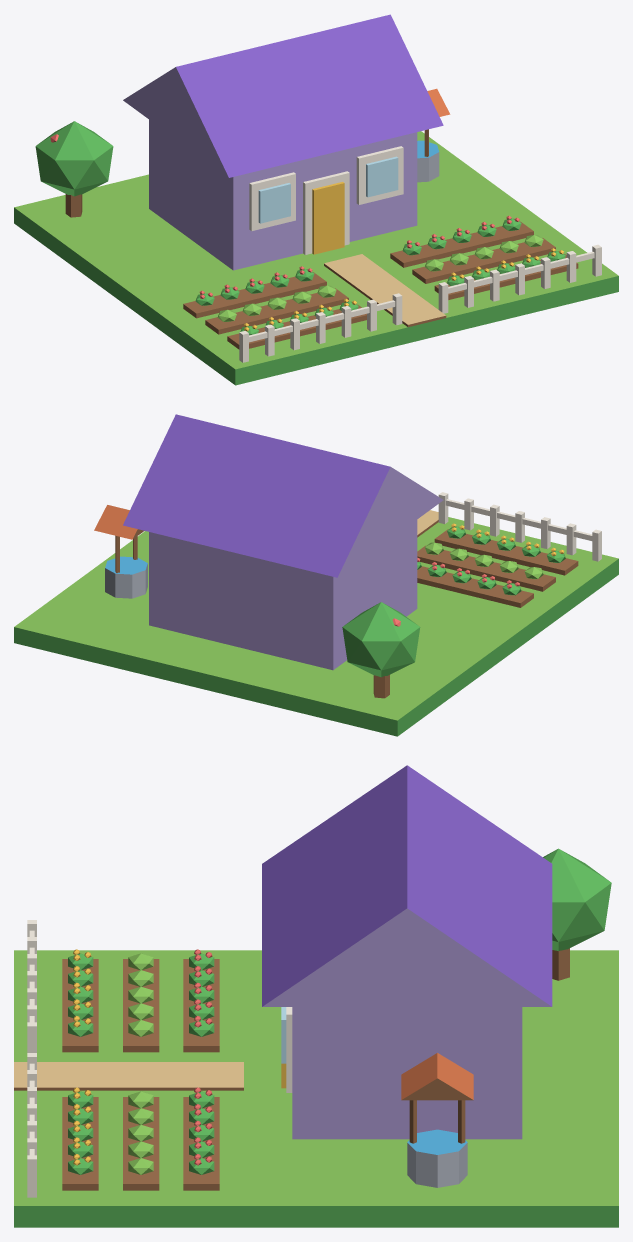
Rendered from house_garden.glb.
3 renders of one model, top to bottom at view 1: azimuth 30°, elevation 25°; view 2: azimuth 150°, elevation 25°; view 3: azimuth 270°, elevation 25°, orthographic. The views are drawn at different scales.
Visible parts, largest first — view 1: house_garden; view 2: house_garden; view 3: house_garden.
Boxes of the visible parts, bbox=[...] form: house_garden: bbox=[14, 14, 618, 385]; house_garden: bbox=[14, 414, 618, 736]; house_garden: bbox=[14, 765, 618, 1227].
Bounding box in the file's own units: 1 × 0.48 × 1.
